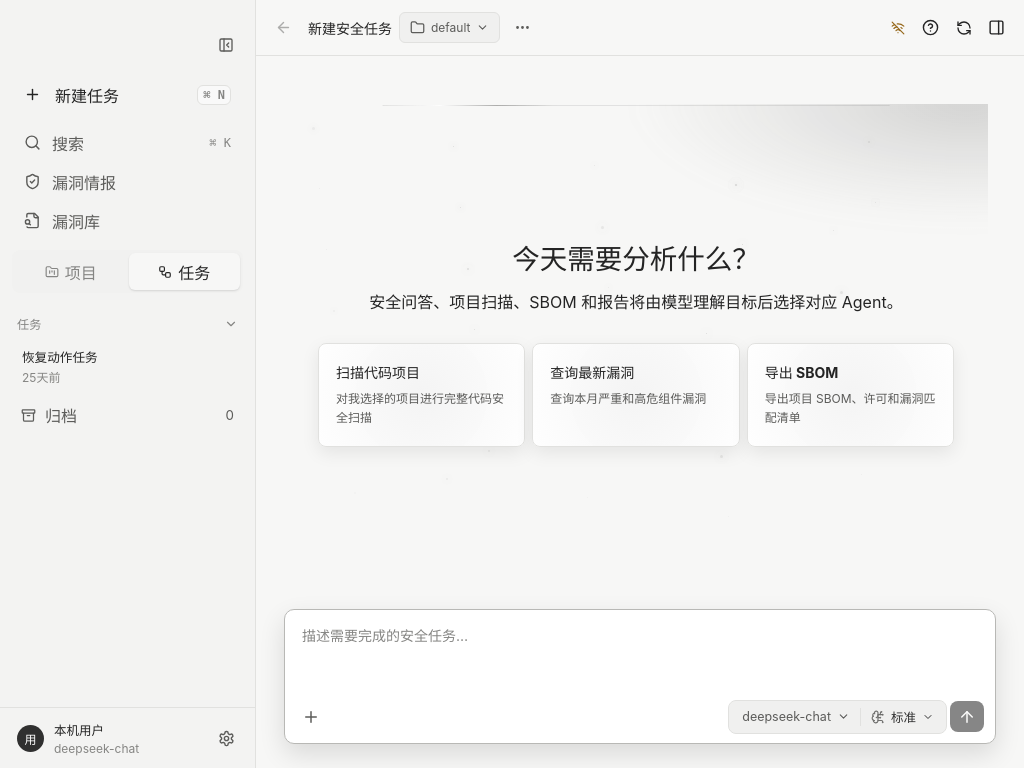
Test case: App navigation theme › restores persisted trace actions from the current answer_payload field
The image size is (1024, 768).
Click the text "恢复动作任务" at (60, 358), box [22, 350, 98, 365]
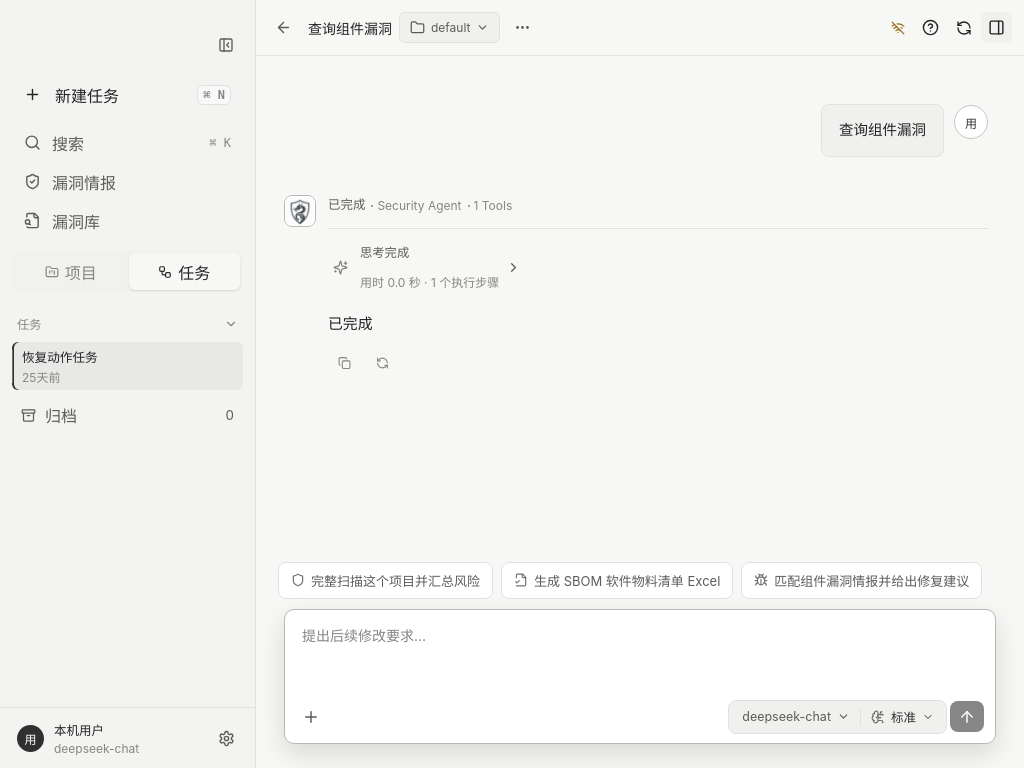
Now the text "已完成" next to "Security Agent" is shown, box [328, 197, 365, 212]
